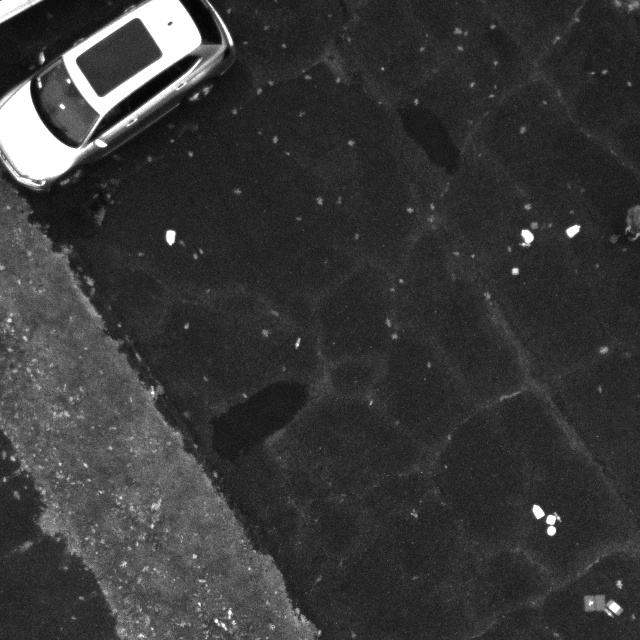bottle: (551, 510, 564, 524), (291, 336, 303, 350), (517, 240, 531, 248), (148, 385, 156, 398)
can: (562, 221, 583, 239), (163, 228, 178, 247), (519, 227, 536, 243), (531, 502, 546, 520), (544, 513, 558, 527), (545, 524, 558, 537)
container: (508, 265, 522, 276), (527, 219, 540, 229)
